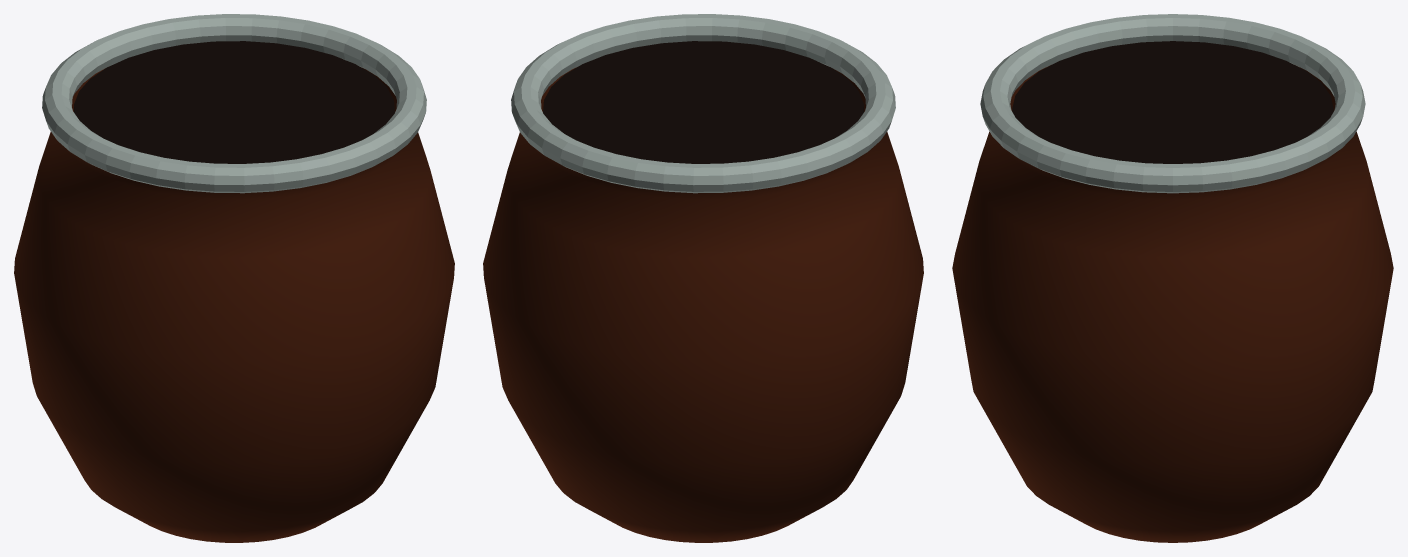
Rendered from MateVacio3D.fbx.
3 renders of one model, left to right at view 1: azimuth 30°, elevation 25°; view 2: azimuth 150°, elevation 25°; view 3: azimuth 270°, elevation 25°, orthographic.
Visible parts, largest first — view 1: MateVacio3D; view 2: MateVacio3D; view 3: MateVacio3D.
Part boxes in pixels (left/top/right/bottom): MateVacio3D: left=14, top=14, right=454, bottom=542; MateVacio3D: left=483, top=14, right=923, bottom=542; MateVacio3D: left=952, top=14, right=1393, bottom=542.
Size of the model in its own units: 23.6 by 23.96 by 23.6.
